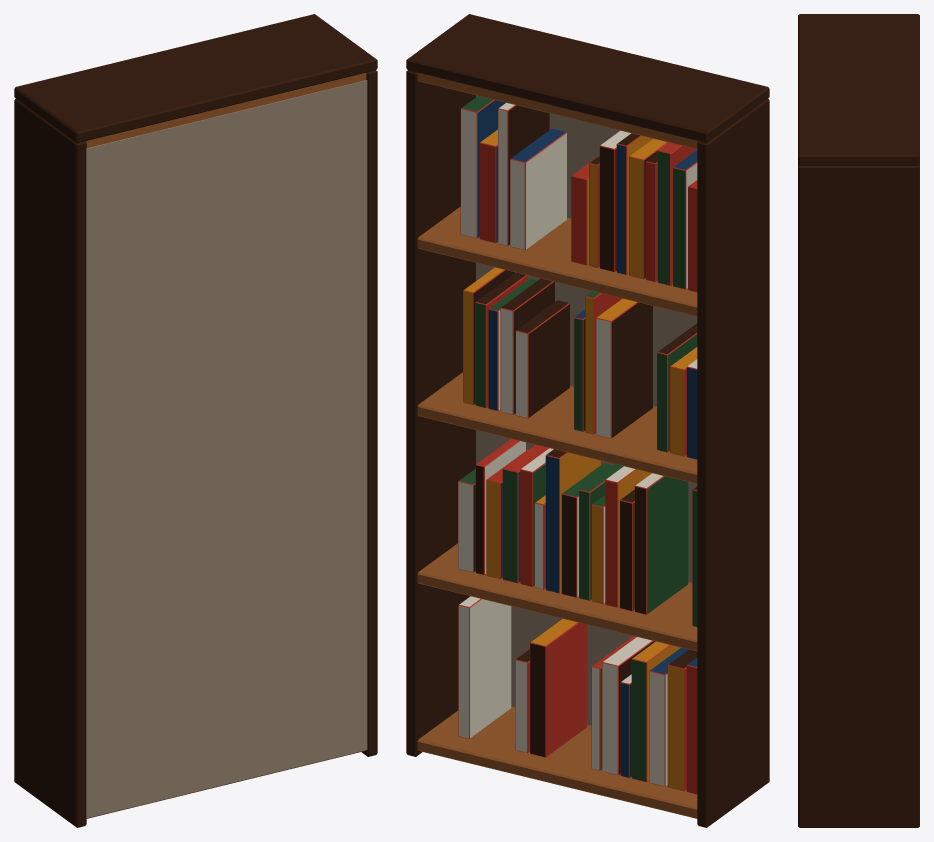
File: INTERIOR_06_Shelf.obj
3 renders of one model, left to right at view 1: azimuth 30°, elevation 25°; view 2: azimuth 150°, elevation 25°; view 3: azimuth 270°, elevation 25°, orthographic. The views are drawn at different scales.
Parts seen in each view (by area): view 1: INTERIOR_06_Shelf_Back_Panel, INTERIOR_06_Shelf_Frame, INTERIOR_06_Shelf_Shelves; view 2: INTERIOR_06_Shelf_Books, INTERIOR_06_Shelf_Frame, INTERIOR_06_Shelf_Shelves, INTERIOR_06_Shelf_Back_Panel; view 3: INTERIOR_06_Shelf_Frame.
Part boxes in pixels (box(x1,y1,x2,y2)): INTERIOR_06_Shelf_Back_Panel: box(86, 80, 367, 818); INTERIOR_06_Shelf_Frame: box(14, 14, 377, 827); INTERIOR_06_Shelf_Shelves: box(85, 72, 366, 818); INTERIOR_06_Shelf_Books: box(458, 96, 697, 794); INTERIOR_06_Shelf_Frame: box(406, 14, 769, 827); INTERIOR_06_Shelf_Shelves: box(417, 72, 698, 818); INTERIOR_06_Shelf_Back_Panel: box(476, 95, 697, 725); INTERIOR_06_Shelf_Frame: box(798, 14, 919, 827).
Bounding box in the file's own units: 0.83 × 1.83 × 0.3.
